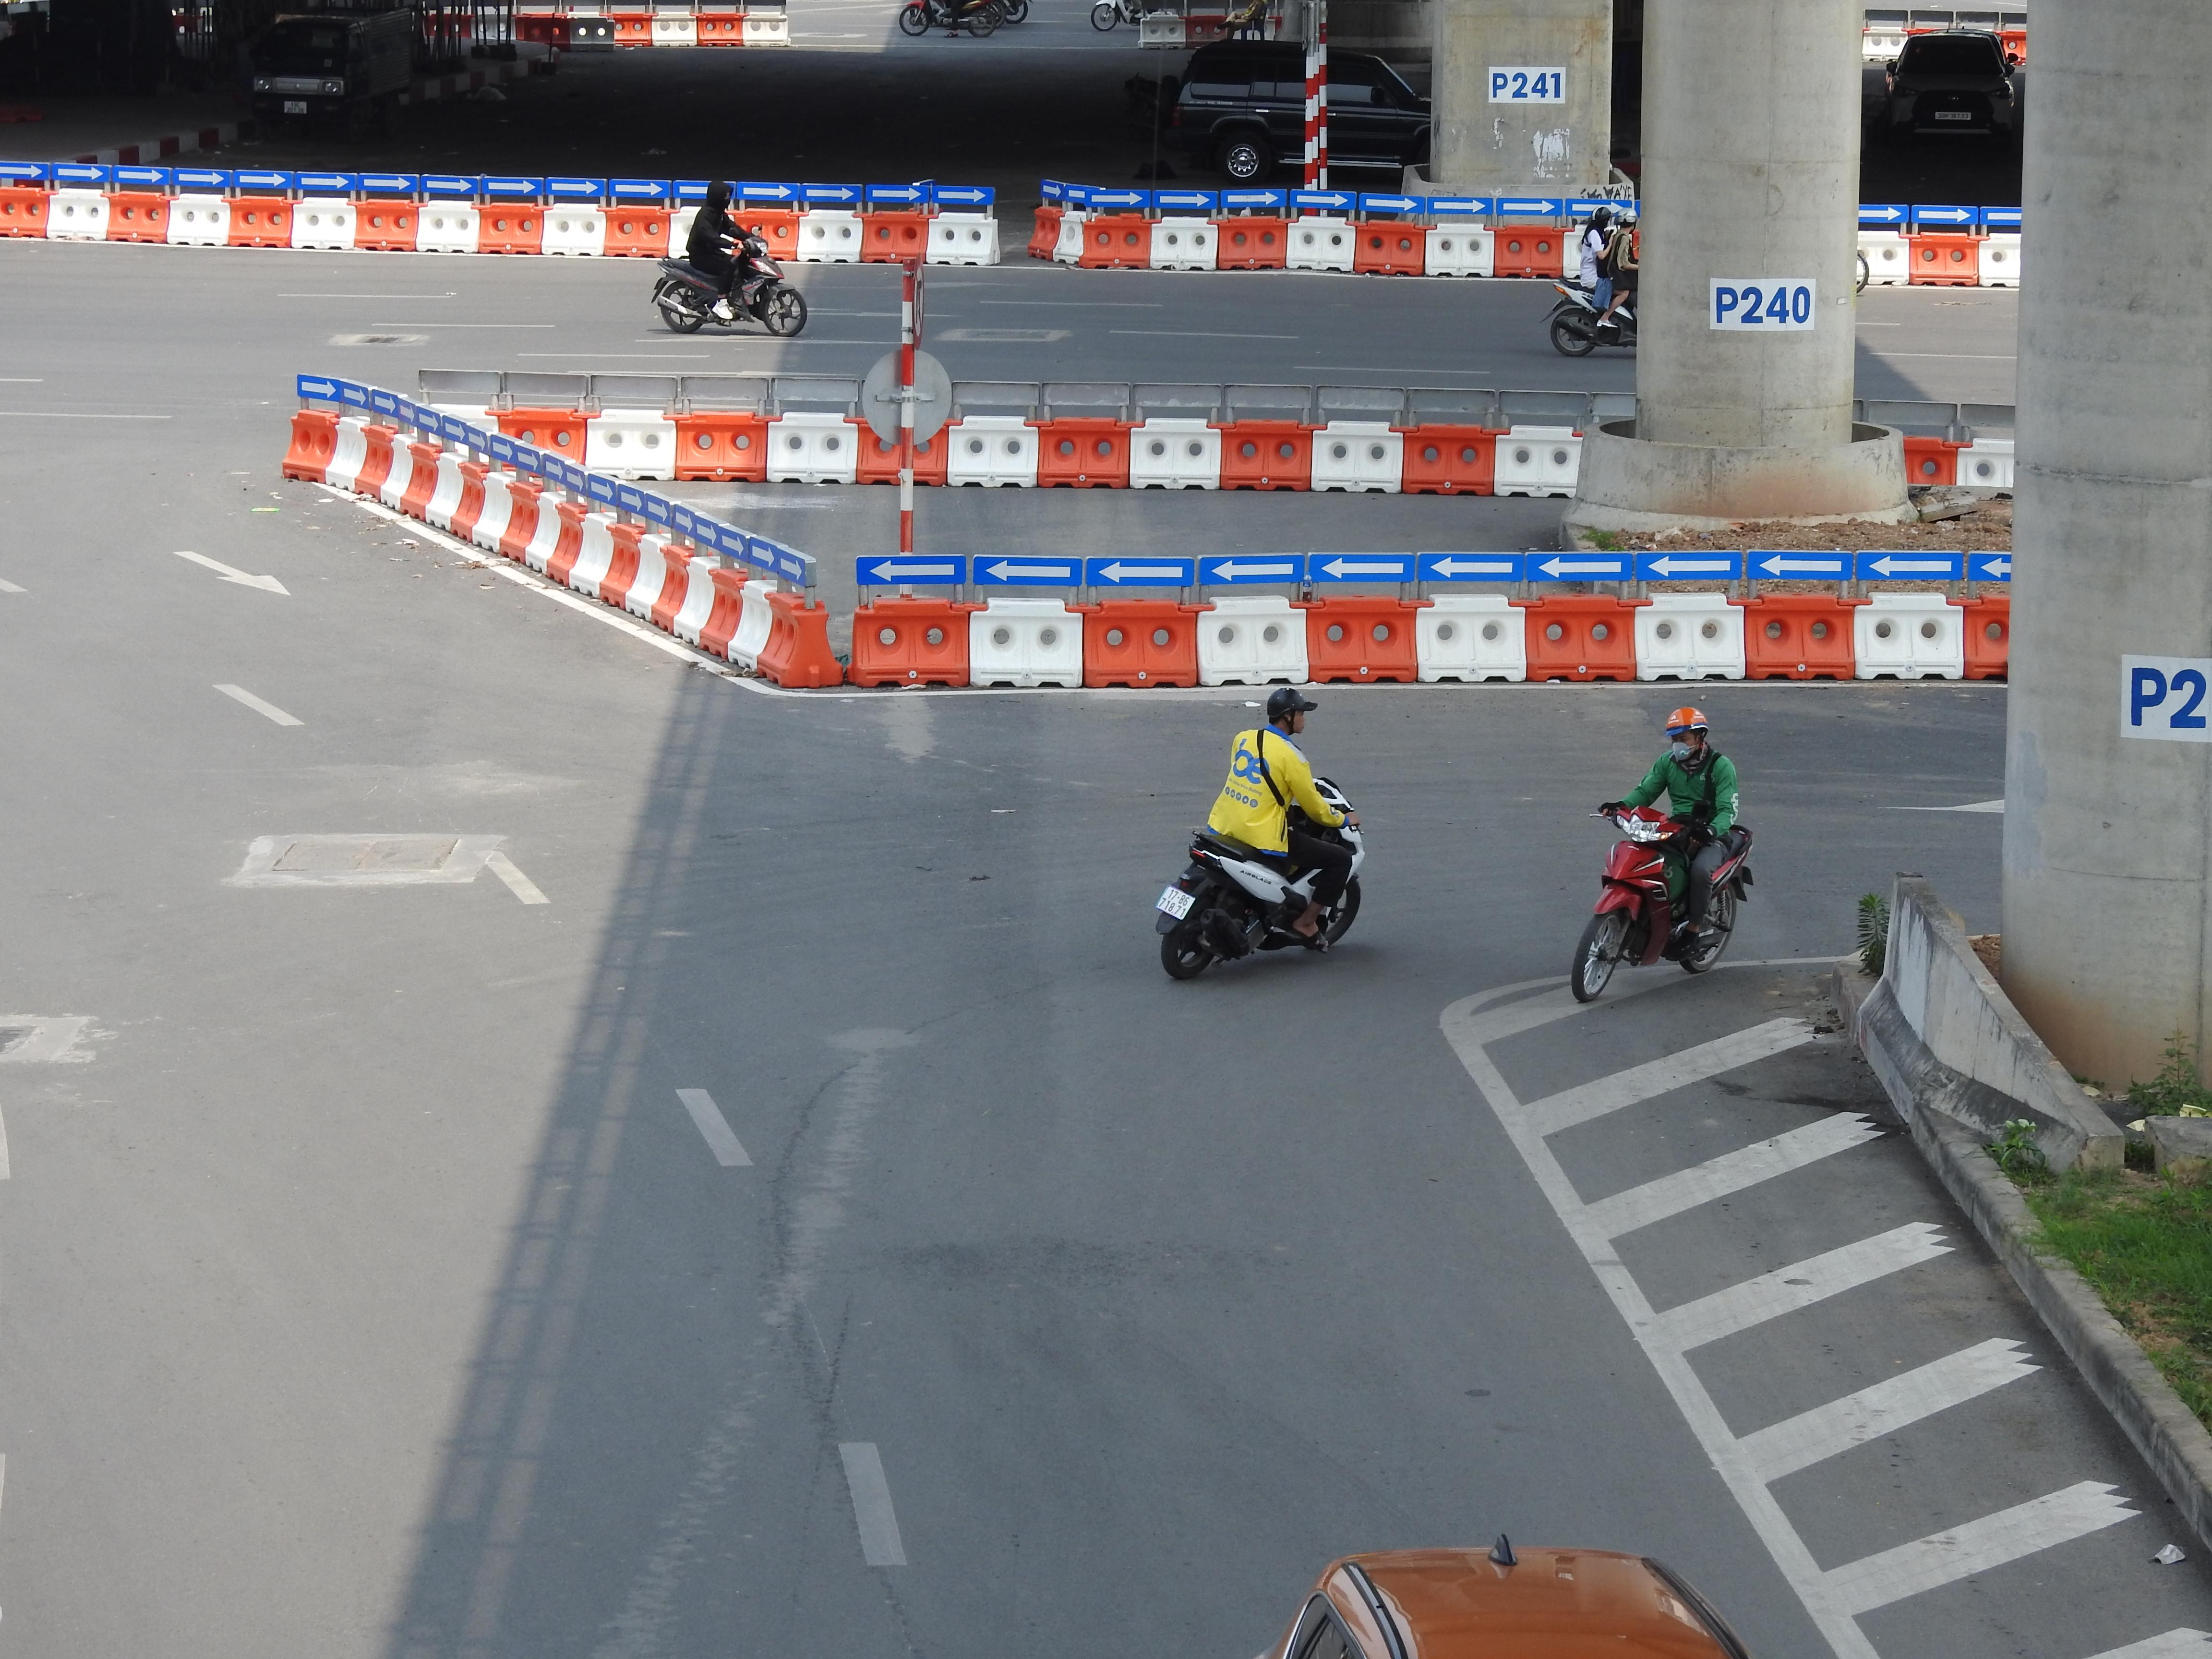BSV: (1157, 887, 1197, 920)
car: (1876, 26, 2022, 146)
motorbike: (1153, 681, 1366, 981), (1571, 704, 1754, 1006), (650, 183, 806, 336), (1547, 206, 1639, 355), (894, 0, 1022, 38)
